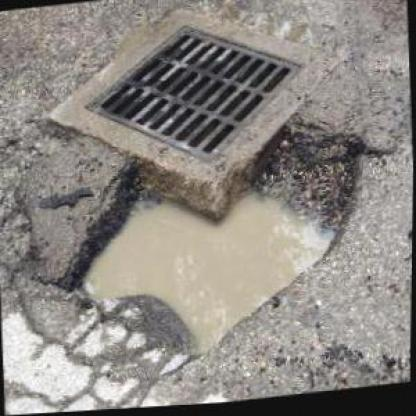pothole: (50, 111, 377, 373)
